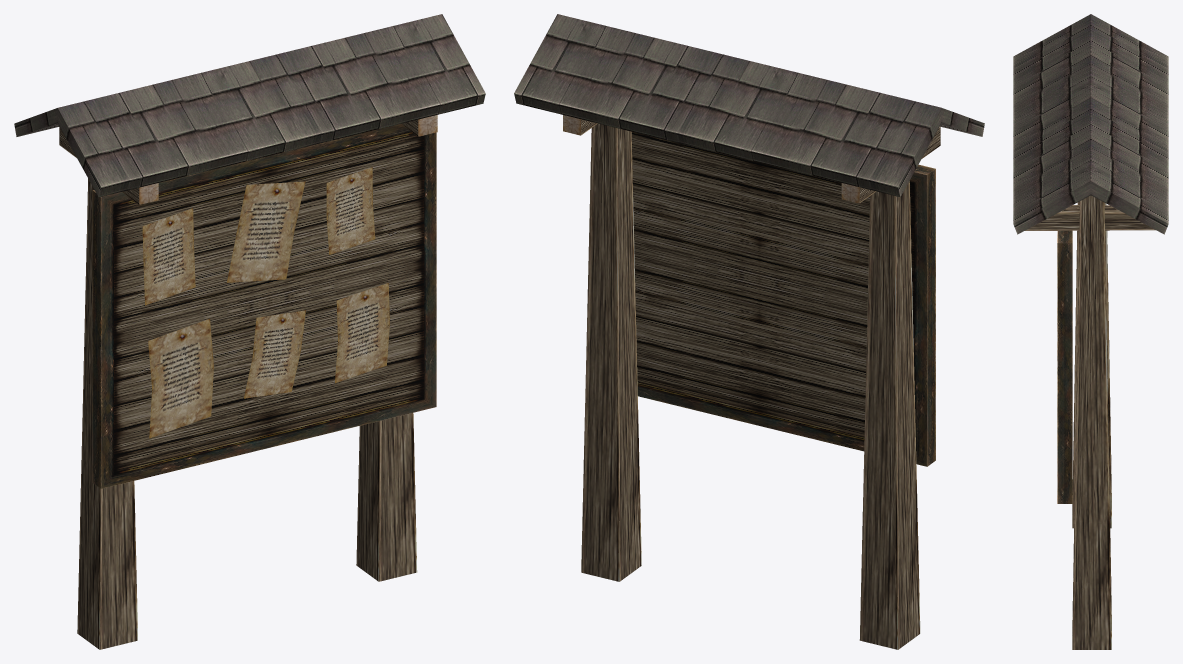
File: NoticeBoard.FBX
3 renders of one model, left to right at view 1: azimuth 30°, elevation 25°; view 2: azimuth 150°, elevation 25°; view 3: azimuth 270°, elevation 25°, orthographic. The views are drawn at different scales.
Parts seen in each view (by area): view 1: NoticeBoard; view 2: NoticeBoard; view 3: NoticeBoard.
Part boxes in pixels (x1=…): NoticeBoard: x1=14, y1=14, x2=485, y2=649; NoticeBoard: x1=514, y1=14, x2=984, y2=649; NoticeBoard: x1=1013, y1=14, x2=1168, y2=649.
Bounding box in the file's own units: 312 × 420 × 122.
